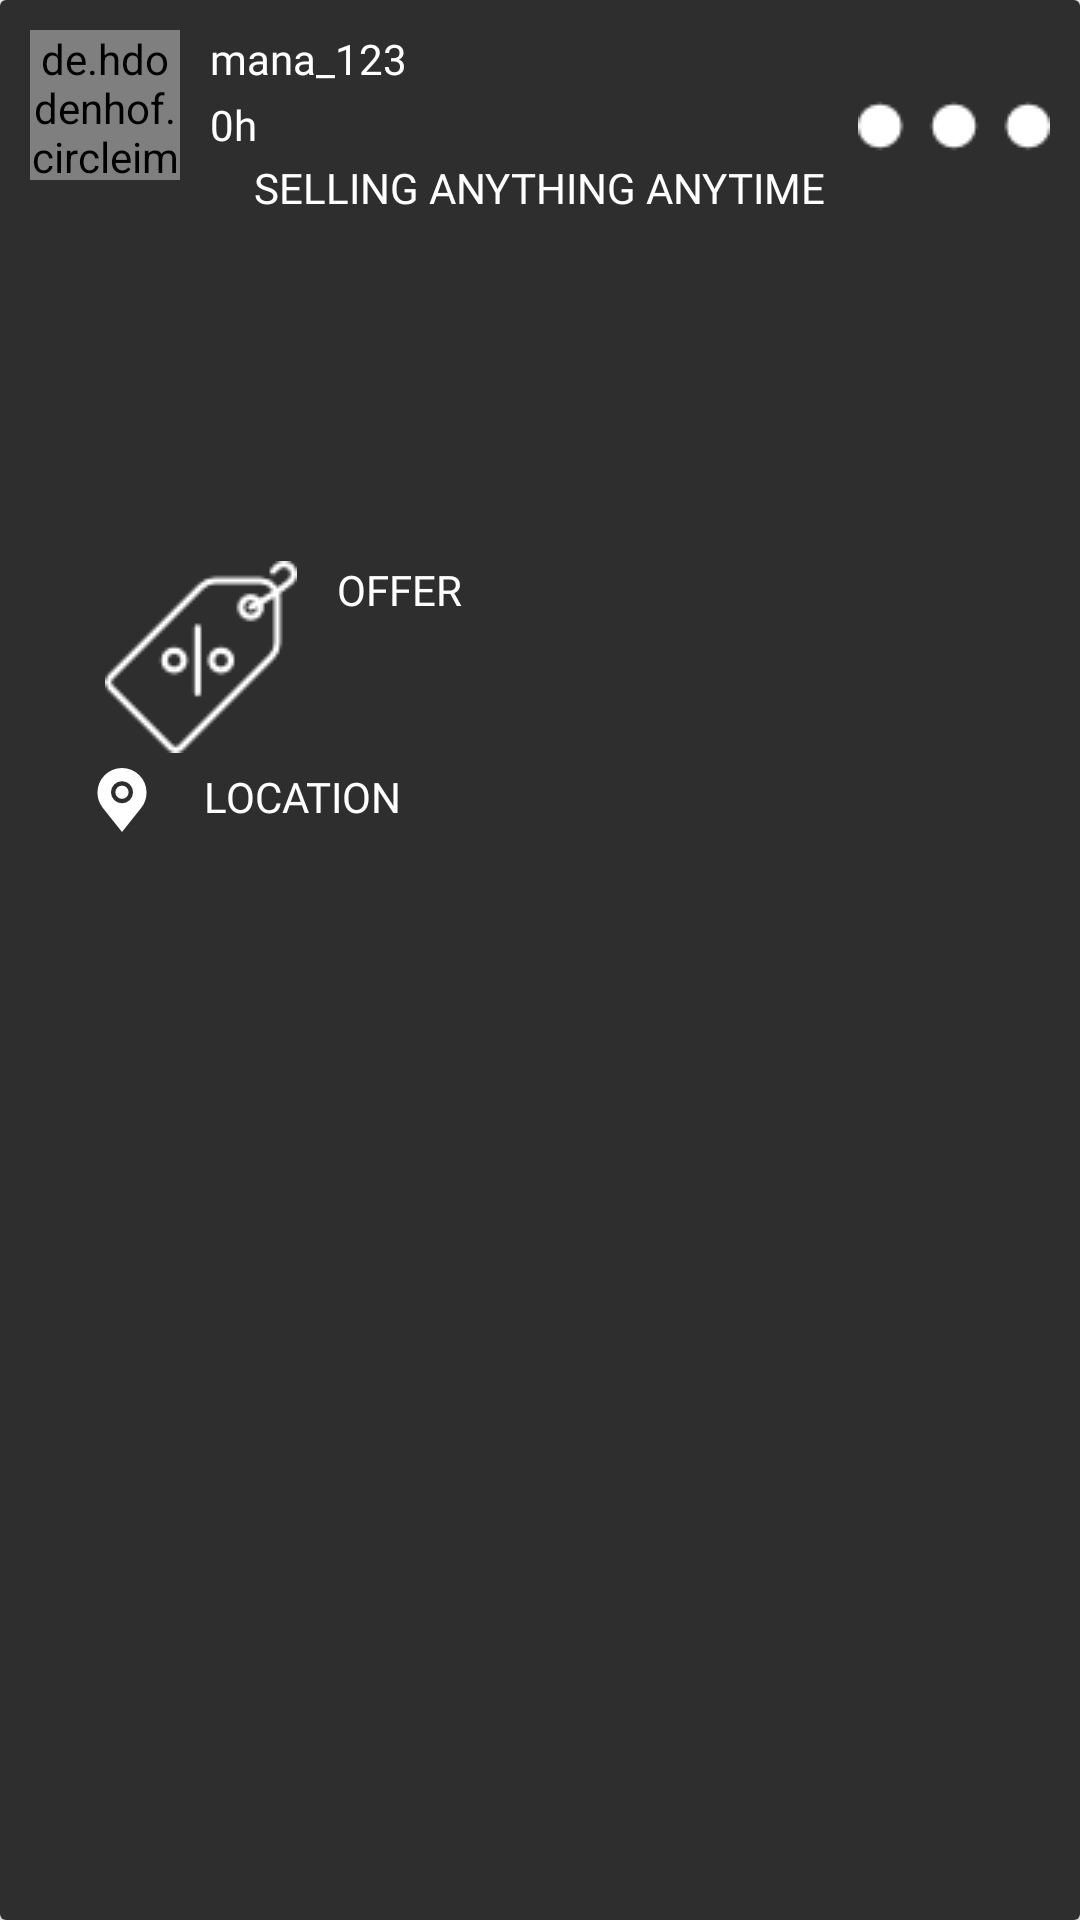

Where to tap for icons on this 1080x1920 app screen, as (x,y):
shop mnu: (954,126)
